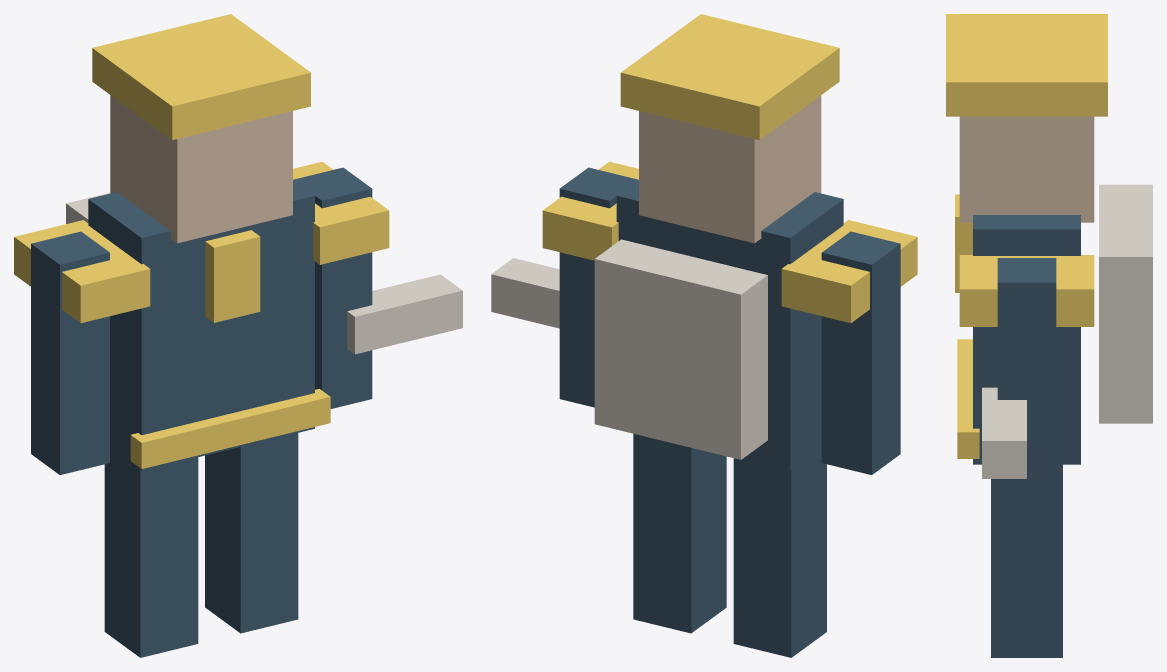
Rendered from 05_tovin_glassroot_warden_near_pawn.glb.
The picture shows the model from 3 angles, left to right: view 1: azimuth 30°, elevation 25°; view 2: azimuth 150°, elevation 25°; view 3: azimuth 270°, elevation 25°; orthographic projection.
Visible parts, largest first — view 1: Tovin Glassroot, Warden near Pawn; view 2: Tovin Glassroot, Warden near Pawn; view 3: Tovin Glassroot, Warden near Pawn.
Boxes of the visible parts, x1,y1,x2,y2 form: Tovin Glassroot, Warden near Pawn: (14,14,462,657); Tovin Glassroot, Warden near Pawn: (491,14,917,657); Tovin Glassroot, Warden near Pawn: (946,14,1152,657).
Bounding box in the file's own units: 1.08 × 1.47 × 0.4839.
